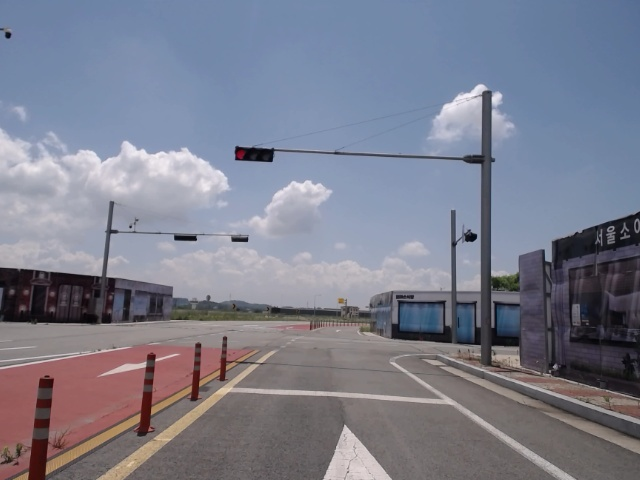red_3: (233, 147, 275, 163)
